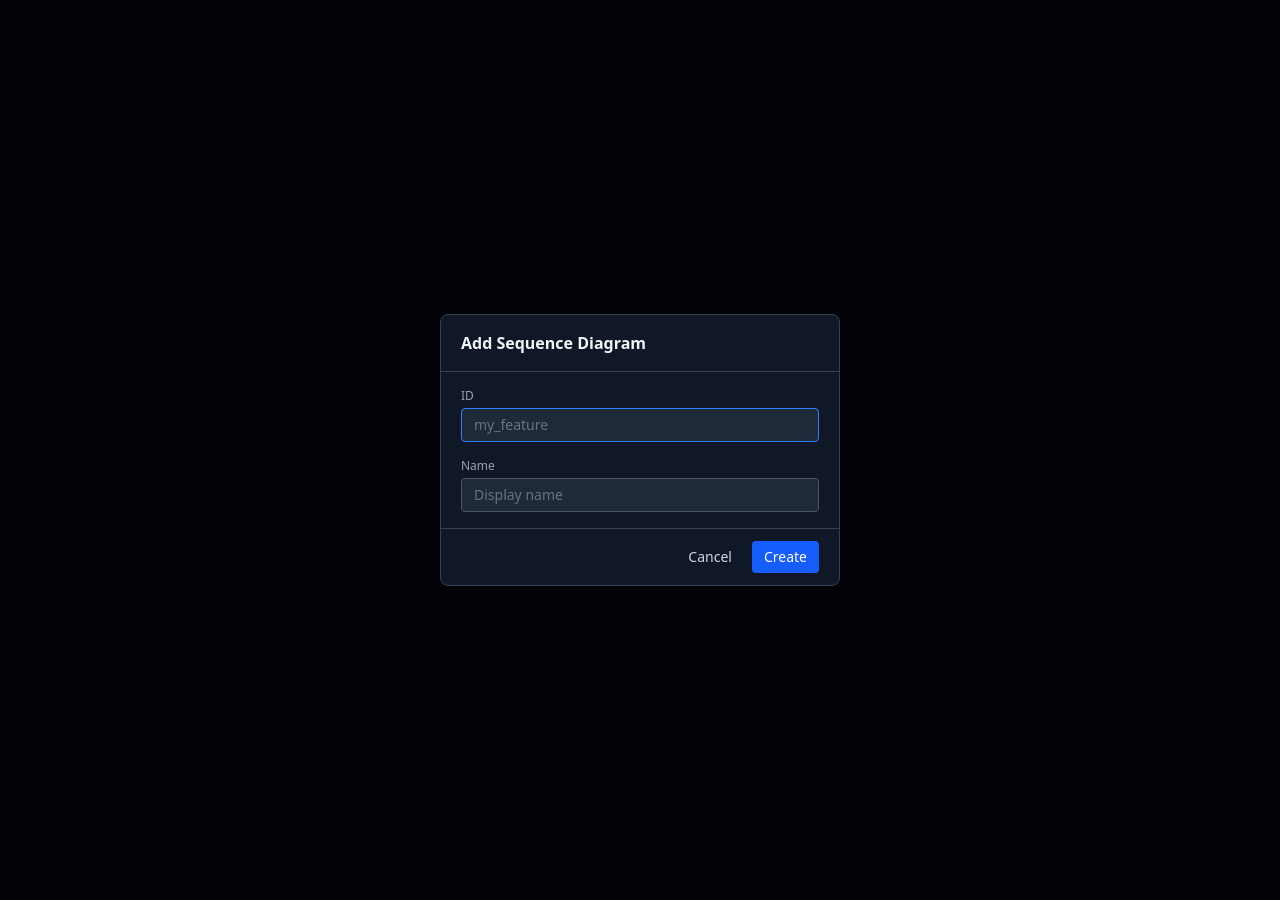
it: CreateNodeDialog › shows Name required error when name is cleared
Type "valid_id" into the field with placeholder "my_feature" at (640, 425), box [461,408,819,442]
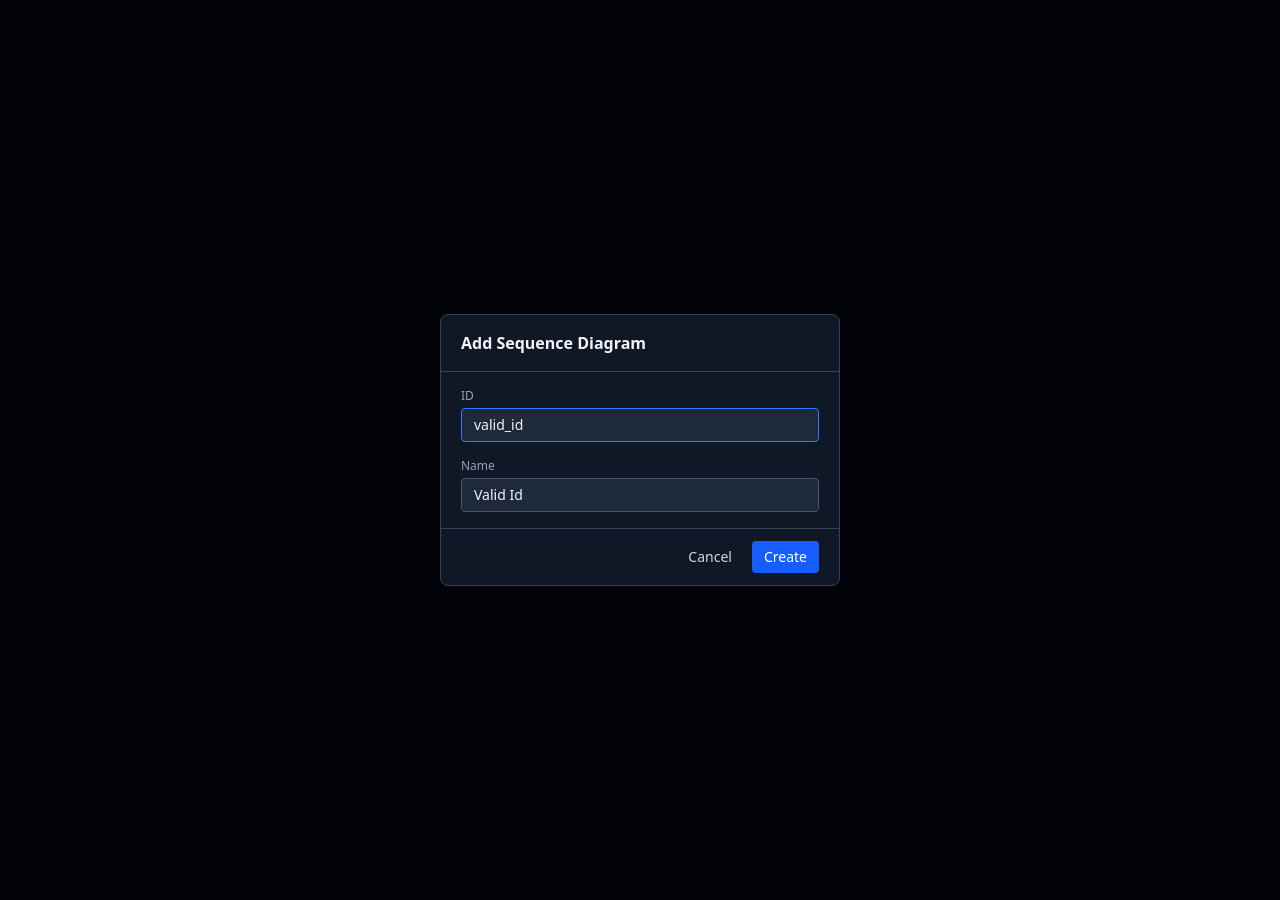
Clear the field with placeholder "Display name" at (640, 495), box [461,478,819,512]
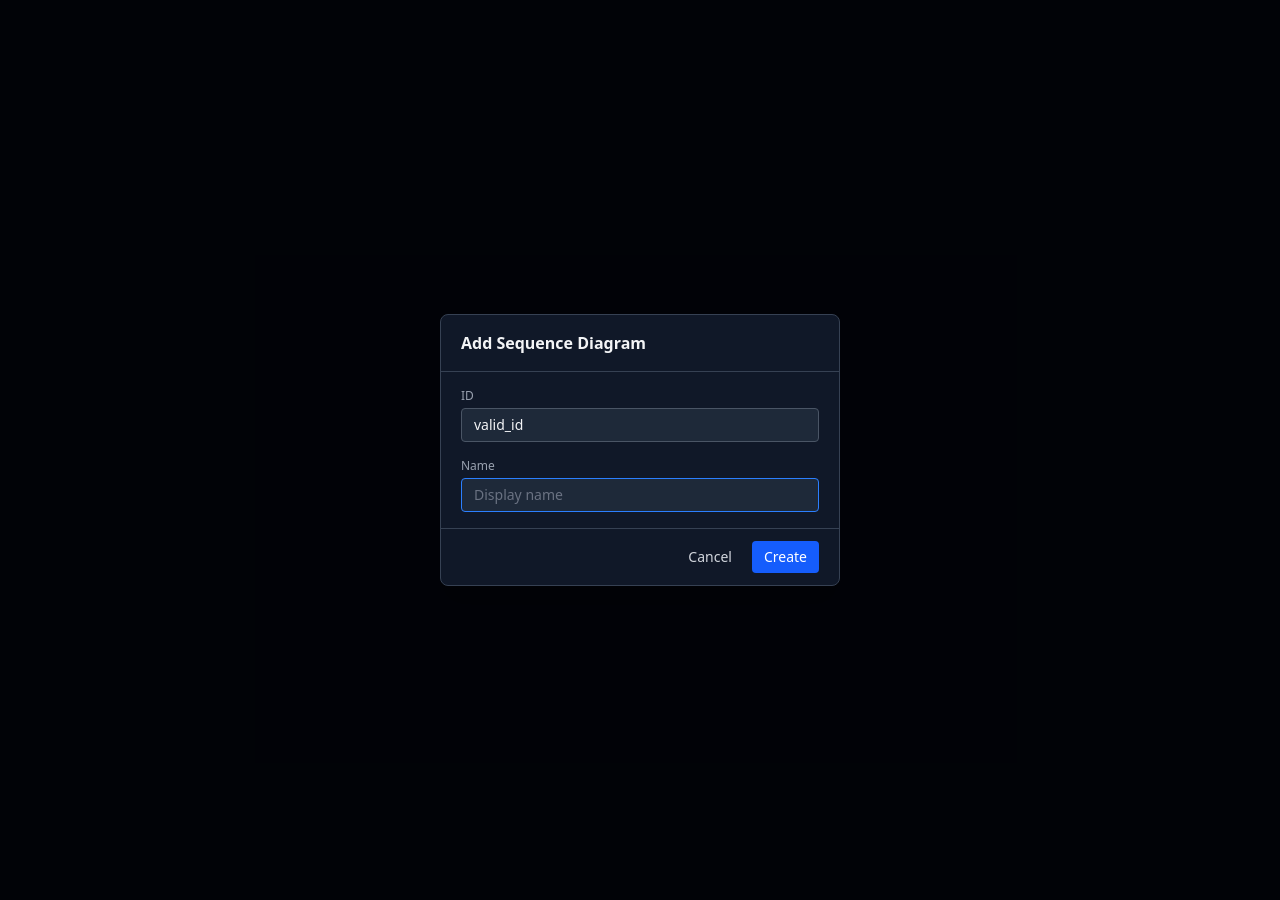
Click the button "Create" at (785, 557), box [752,541,819,573]
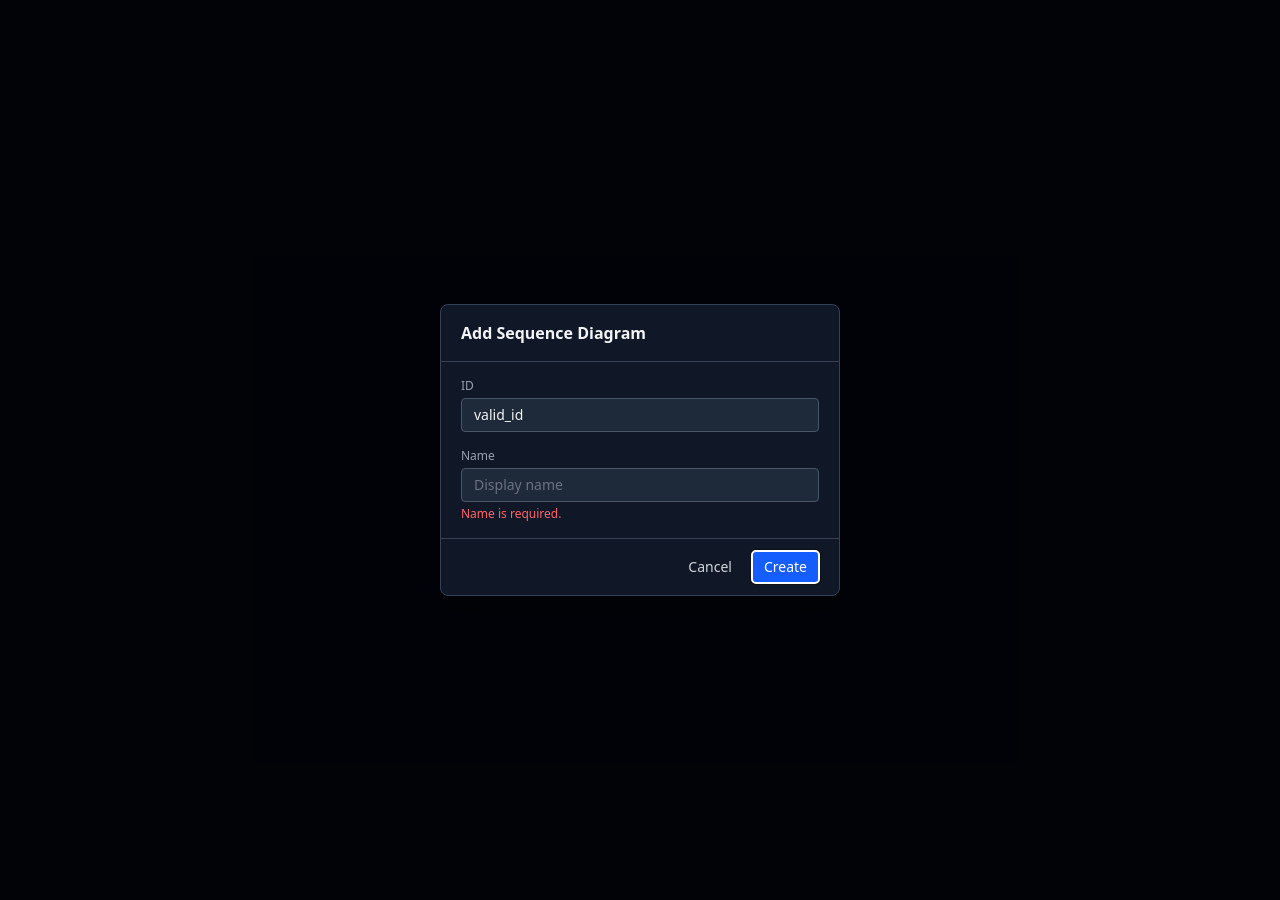
Expected: the text "Name is required." is shown, [461,505,561,522]
